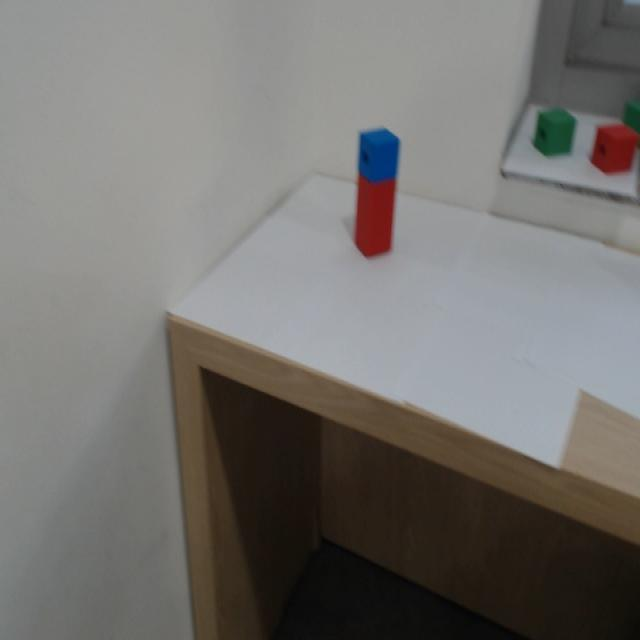cube: (351, 113, 404, 182)
